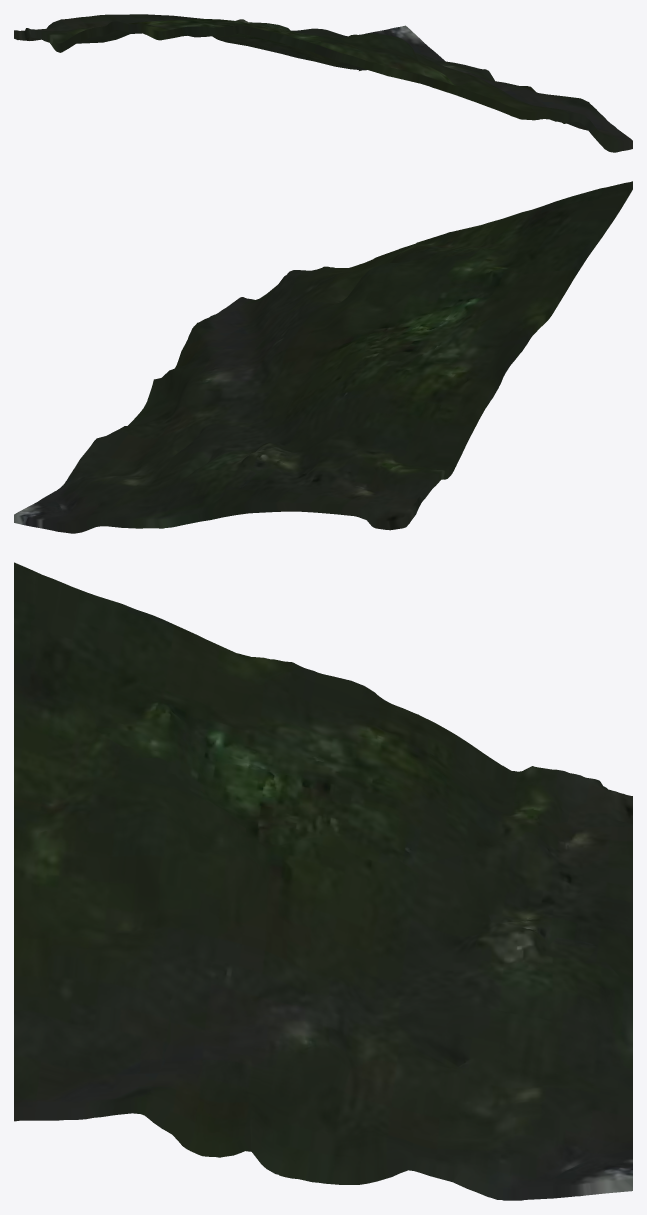
Rendered from z20-167753-405192-h0-yup-uvflip-v3-world.glb.
The picture shows the model from 3 angles, top to bottom: view 1: azimuth 30°, elevation 25°; view 2: azimuth 150°, elevation 25°; view 3: azimuth 270°, elevation 25°; orthographic projection. The views are drawn at different scales.
Bounding box in the file's own units: 30.16 × 20.44 × 30.32.
Materials: 1 (1 with a texture image).
